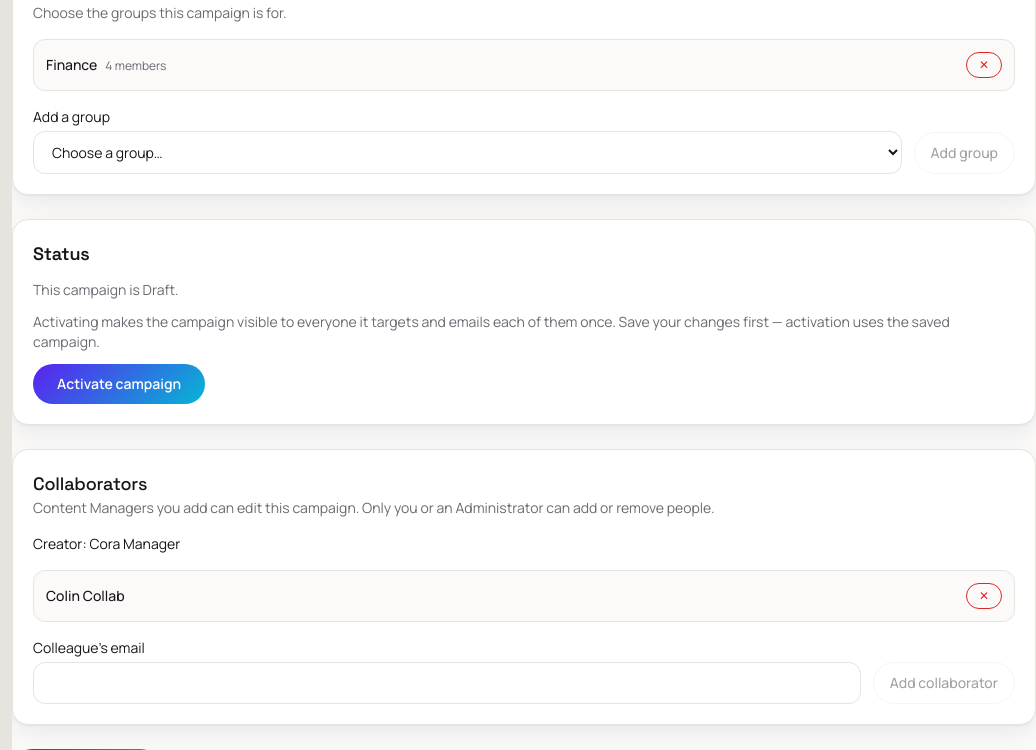
Test: CampaignBuilderPage › activates a draft and then offers closing instead
The image size is (1036, 750).
(page scrolled)
Click the button "Activate campaign": x=119, y=384 33,364 -> 205,404
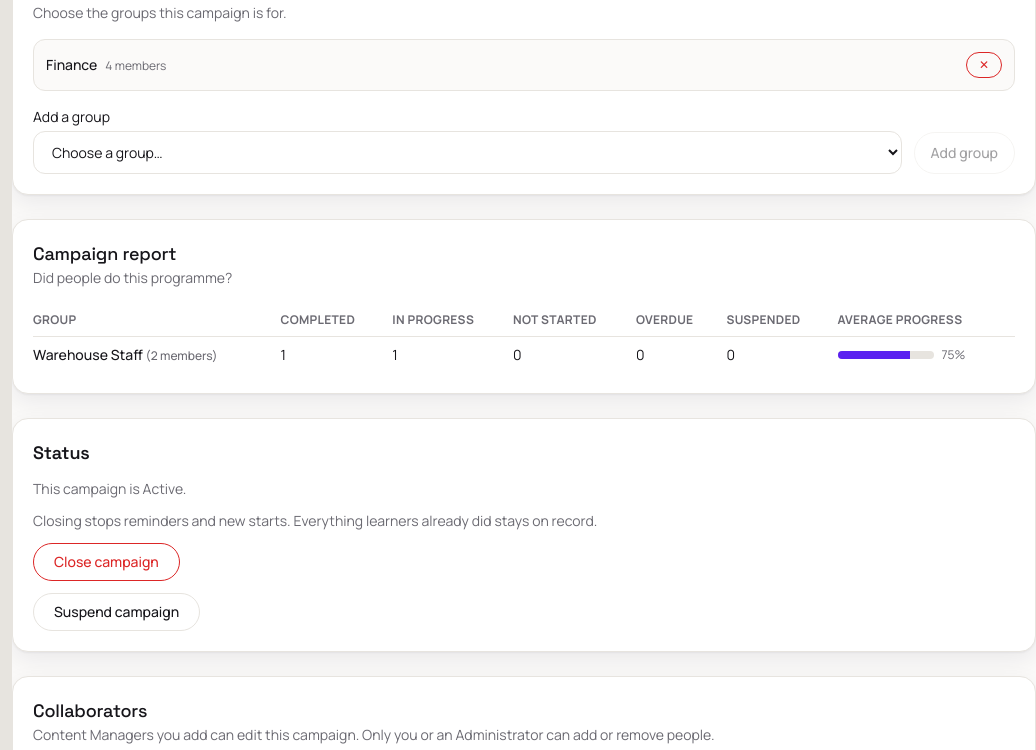
Expected: the button "Close campaign" is shown, 33,543 -> 180,581
Expected: the button "Activate campaign" is gone
